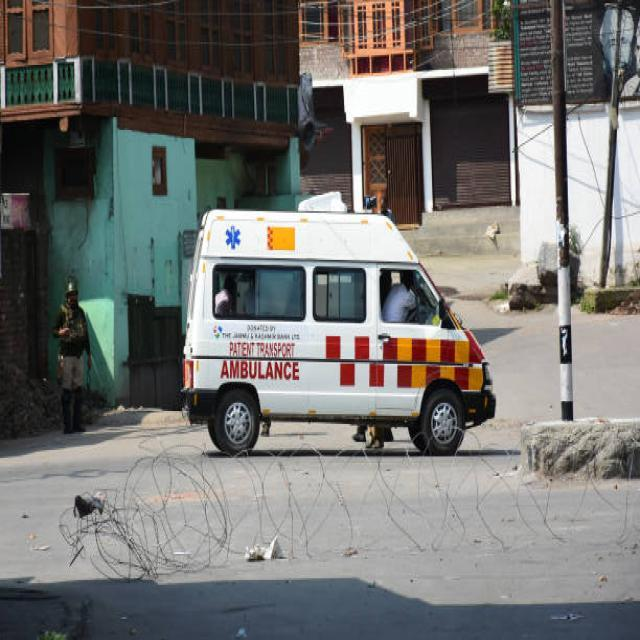ambulance: (178, 202, 502, 465)
